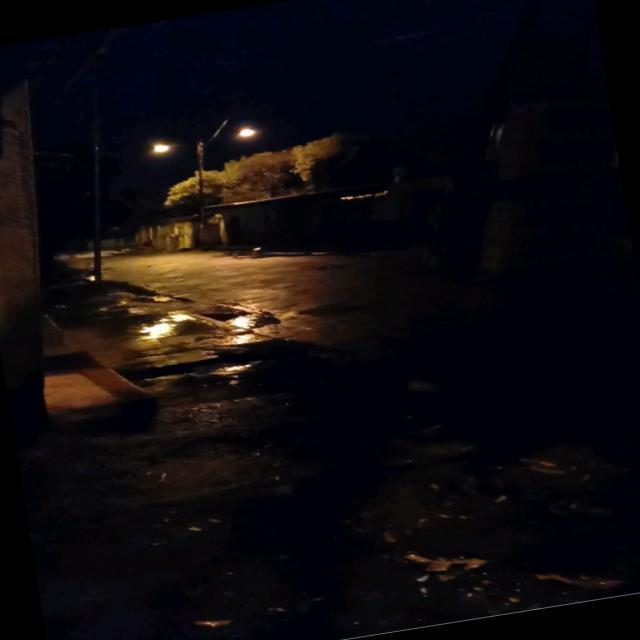on: (130, 93, 276, 174)
